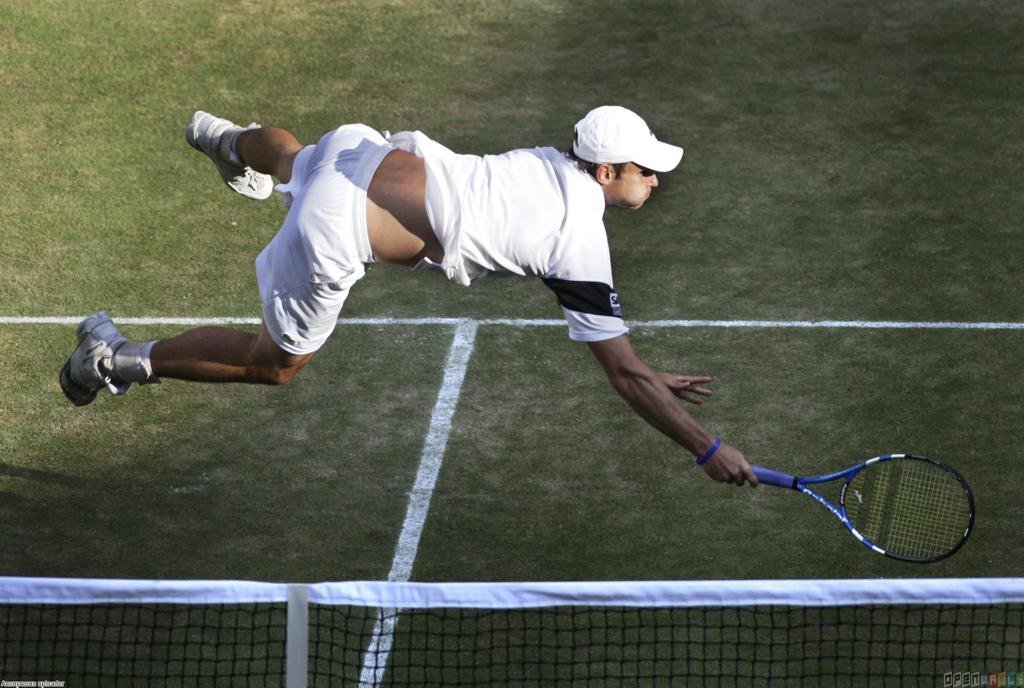face: (615, 150, 658, 208)
